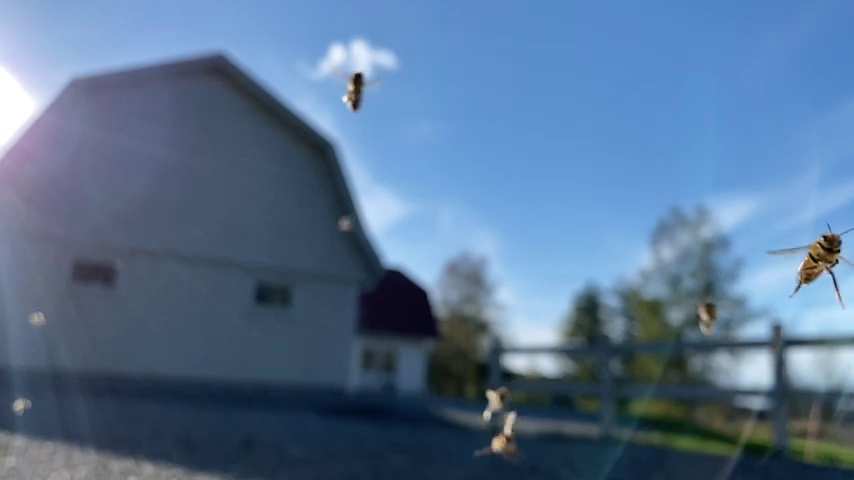insect: (766, 225, 854, 303), (475, 386, 519, 461), (340, 62, 376, 112)
